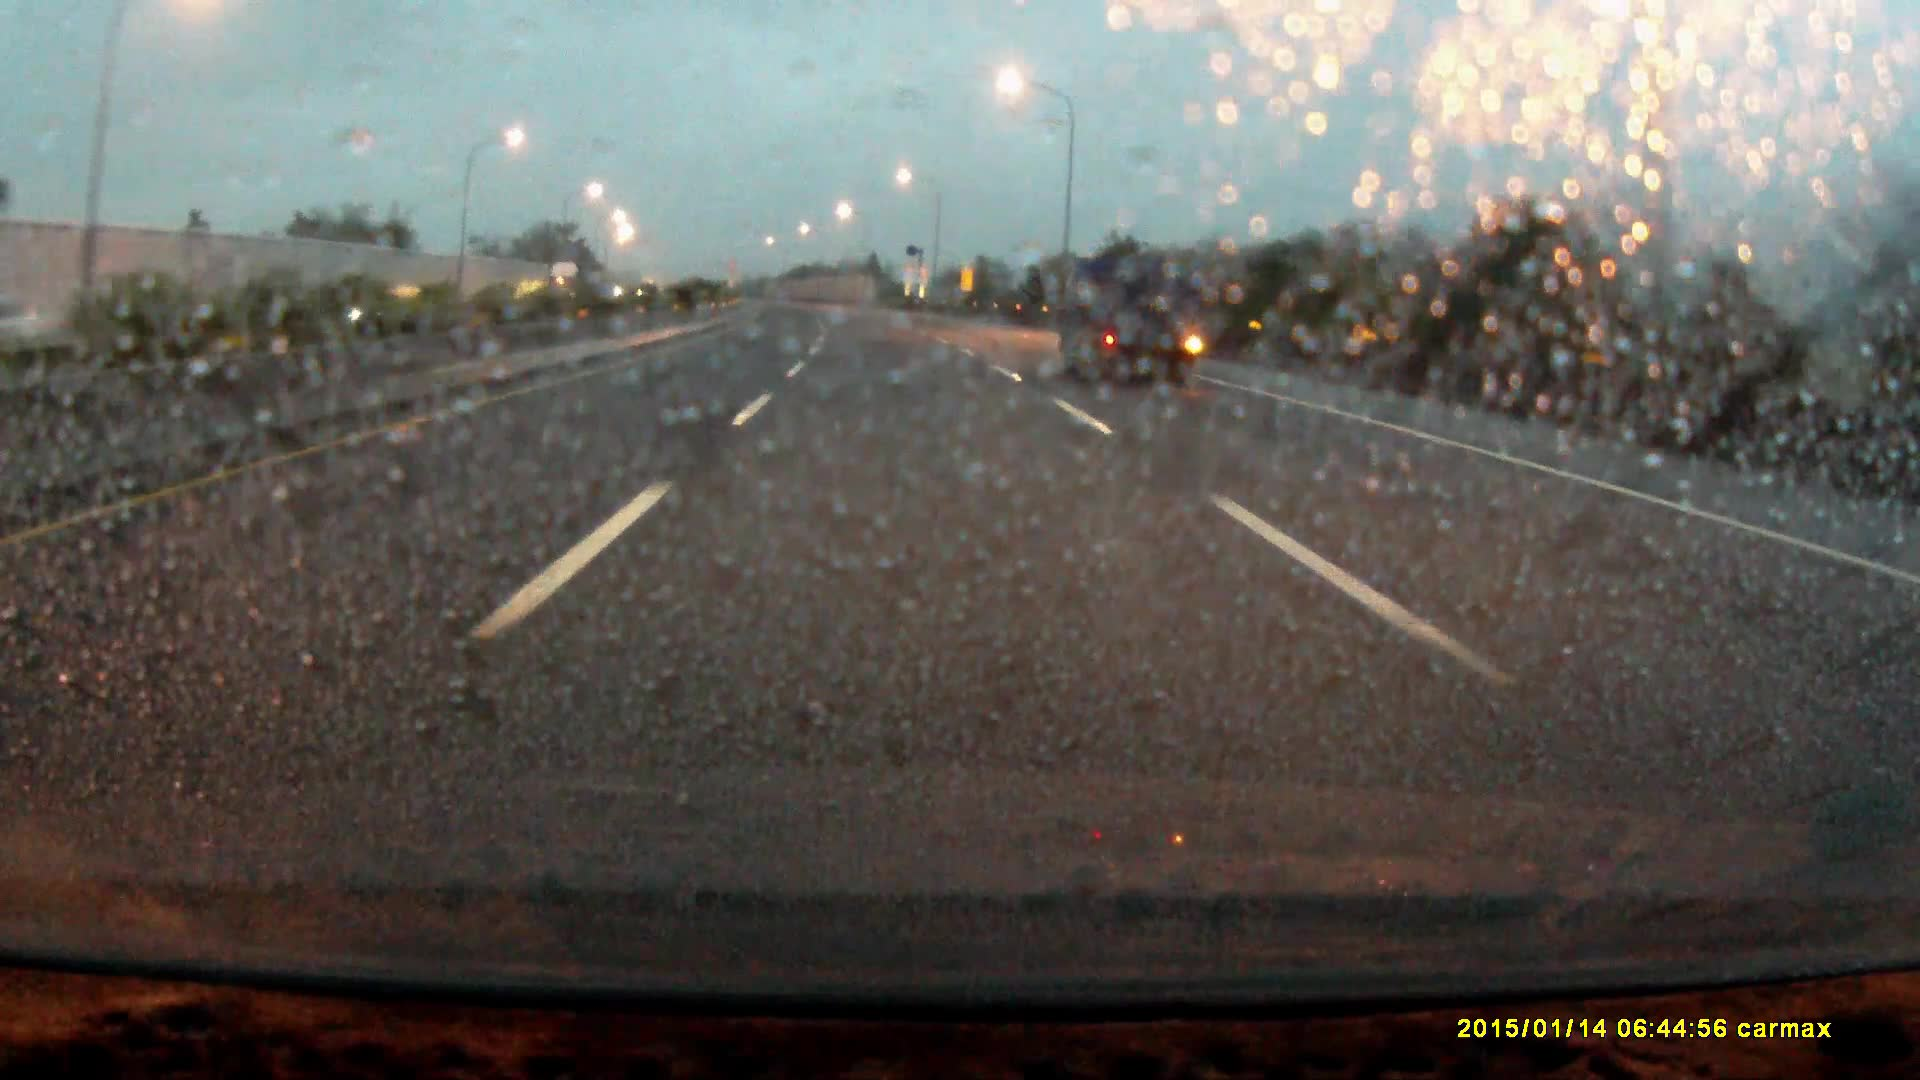vehicle: (1058, 255, 1199, 396), (549, 260, 588, 316)
